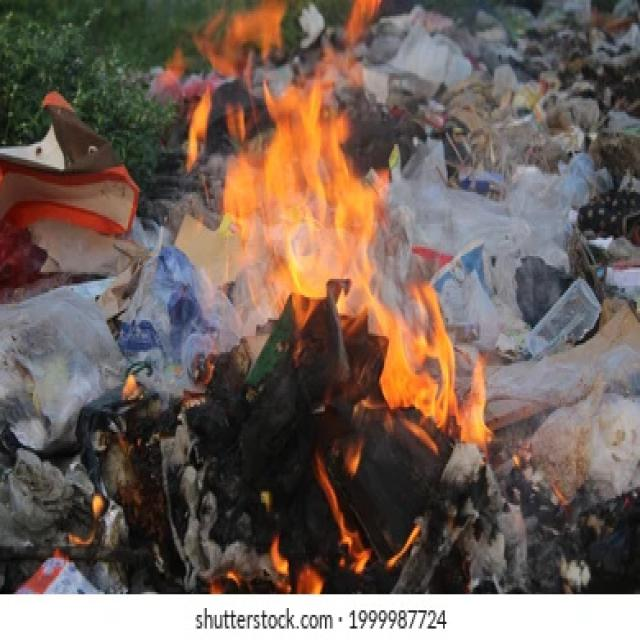fire: (215, 81, 376, 362), (378, 279, 491, 461), (191, 0, 288, 95), (150, 46, 213, 174), (316, 457, 371, 573), (313, 0, 381, 80), (69, 495, 103, 545), (388, 525, 420, 569)
